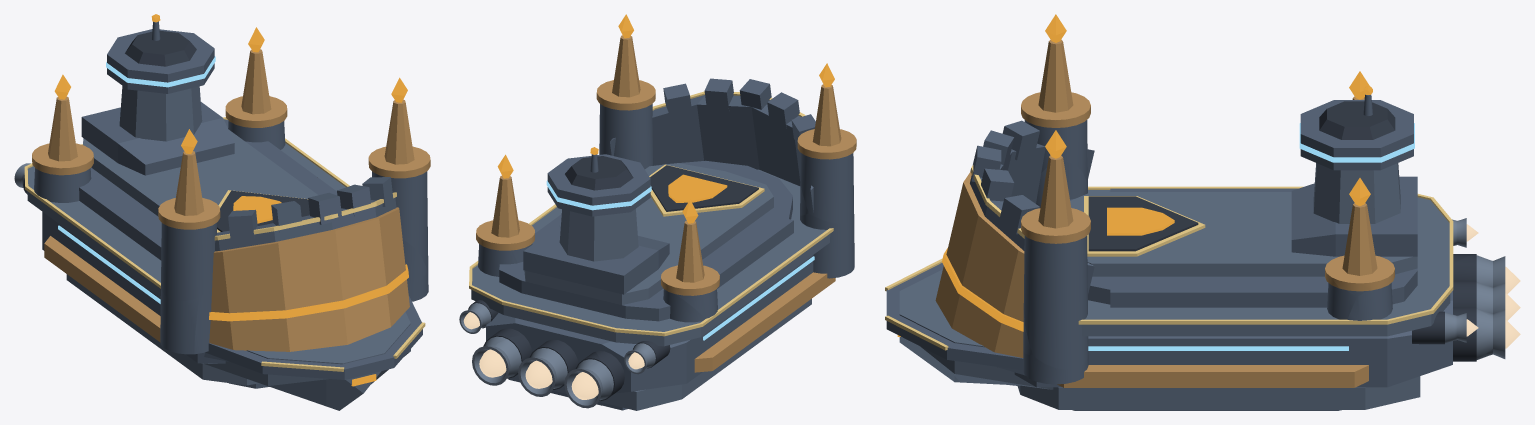
File: bastion_wreck.glb
The picture shows the model from 3 angles, left to right: view 1: azimuth 30°, elevation 25°; view 2: azimuth 150°, elevation 25°; view 3: azimuth 270°, elevation 25°; orthographic projection. The views are drawn at different scales.
Visible parts, largest first — view 1: bastion_wreck_15, bastion_wreck_07, bastion_wreck_05, bastion_wreck_00, bastion_wreck_12, bastion_wreck_13, bastion_wreck_19, bastion_wreck_08, bastion_wreck_16, bastion_wreck_11, bastion_wreck_03, bastion_wreck_01 (+6 smaller); view 2: bastion_wreck_02, bastion_wreck_01, bastion_wreck_15, bastion_wreck_10, bastion_wreck_13, bastion_wreck_04, bastion_wreck_05, bastion_wreck_03, bastion_wreck_00, bastion_wreck_17, bastion_wreck_11, bastion_wreck_16 (+6 smaller); view 3: bastion_wreck_03, bastion_wreck_08, bastion_wreck_04, bastion_wreck_11, bastion_wreck_16, bastion_wreck_09, bastion_wreck_00, bastion_wreck_01, bastion_wreck_12, bastion_wreck_18, bastion_wreck_17, bastion_wreck_05 (+8 smaller).
Part boxes in pixels (left/top/right/bottom): bastion_wreck_15: left=30, top=127, right=165, bottom=315; bastion_wreck_07: left=194, top=268, right=326, bottom=406; bastion_wreck_05: left=241, top=181, right=385, bottom=293; bastion_wreck_00: left=158, top=129, right=243, bottom=300; bastion_wreck_12: left=314, top=283, right=425, bottom=410; bastion_wreck_13: left=98, top=233, right=230, bottom=383; bastion_wreck_19: left=124, top=43, right=212, bottom=177; bastion_wreck_08: left=175, top=86, right=345, bottom=189; bastion_wreck_16: left=336, top=197, right=426, bottom=323; bastion_wreck_11: left=139, top=167, right=325, bottom=228; bastion_wreck_03: left=301, top=141, right=430, bottom=271; bastion_wreck_01: left=81, top=14, right=195, bottom=131; bastion_wreck_02: left=569, top=269, right=732, bottom=410; bastion_wreck_01: left=542, top=147, right=644, bottom=289; bastion_wreck_15: left=631, top=240, right=781, bottom=363; bastion_wreck_10: left=473, top=293, right=614, bottom=408; bastion_wreck_13: left=731, top=213, right=854, bottom=362; bastion_wreck_04: left=459, top=235, right=569, bottom=379; bastion_wreck_05: left=679, top=78, right=813, bottom=178; bastion_wreck_03: left=543, top=76, right=685, bottom=216; bastion_wreck_00: left=796, top=63, right=856, bottom=223; bastion_wreck_17: left=676, top=137, right=808, bottom=250; bastion_wreck_11: left=636, top=176, right=752, bottom=251; bastion_wreck_16: left=652, top=113, right=777, bottom=177; bastion_wreck_03: left=1004, top=200, right=1215, bottom=387; bastion_wreck_08: left=1204, top=178, right=1417, bottom=395; bastion_wreck_04: left=1318, top=224, right=1505, bottom=400; bastion_wreck_11: left=1110, top=190, right=1281, bottom=391; bastion_wreck_16: left=950, top=215, right=1032, bottom=360; bastion_wreck_09: left=953, top=348, right=1194, bottom=410; bastion_wreck_00: left=1010, top=14, right=1094, bottom=183; bastion_wreck_01: left=1340, top=86, right=1417, bottom=223; bastion_wreck_12: left=885, top=237, right=961, bottom=382; bastion_wreck_18: left=1323, top=140, right=1388, bottom=296; bastion_wreck_17: left=1011, top=144, right=1199, bottom=239; bastion_wreck_05: left=952, top=124, right=1033, bottom=230.
Size of the model in its own units: 6.28 by 6.42 by 11.6.
